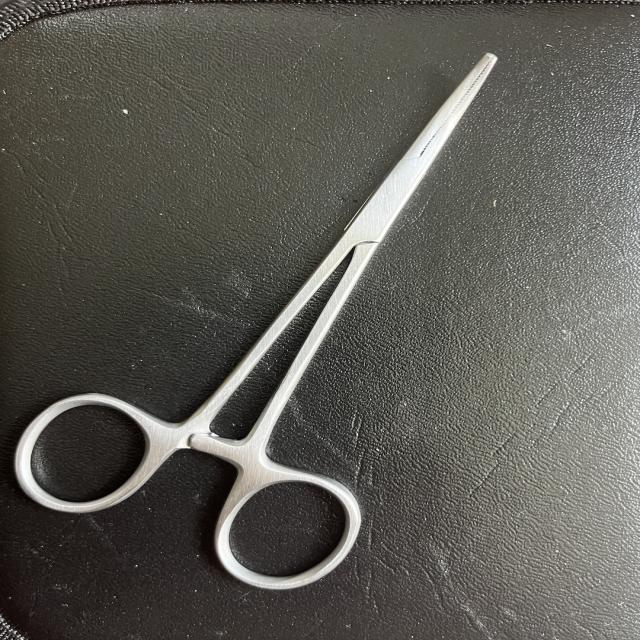scissor: (10, 44, 511, 609)
